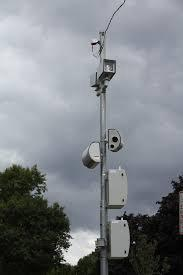Speed-Camera: (79, 57, 127, 170)
